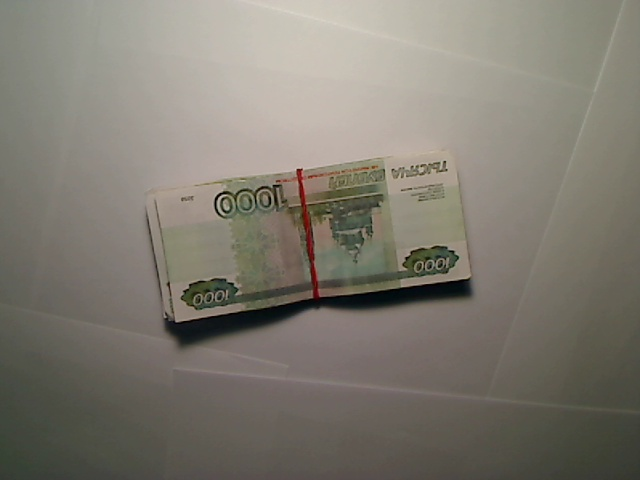banknotes: (135, 145, 480, 330)
